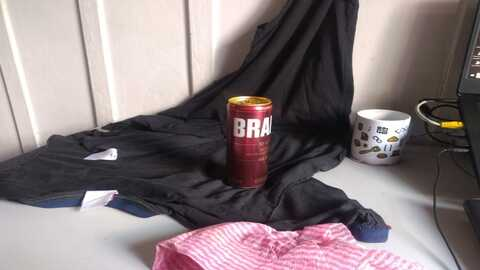duplo_malte: (223, 94, 273, 190)
